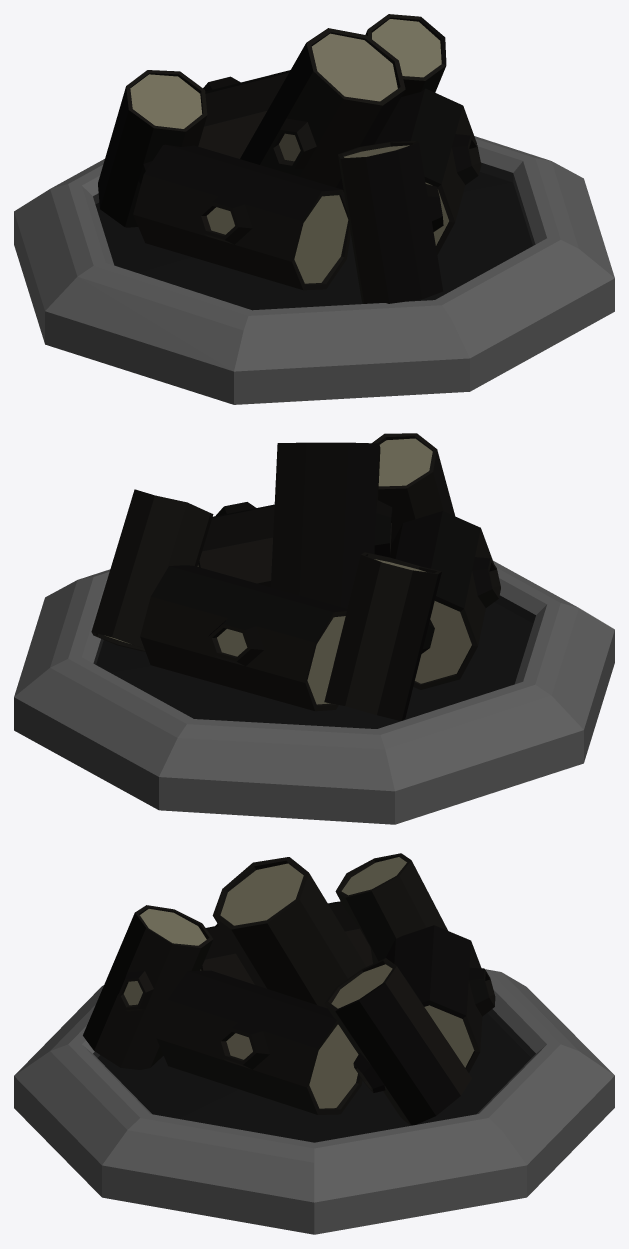
Rendered from Campfire.fbx.
3 views of the same model, one above another, from view 1: azimuth 30°, elevation 25°; view 2: azimuth 150°, elevation 25°; view 3: azimuth 270°, elevation 25° (orthographic). The views are drawn at different scales.
Visible parts, largest first — view 1: CampfireBase, Firewood002, Firewood003, Firewood006, Firewood005, Firewood001, Firewood, Firewood004; view 2: CampfireBase, Firewood, Firewood003, Firewood005, Firewood002, Firewood004, Firewood006, Firewood001; view 3: CampfireBase, Firewood001, Firewood003, Firewood004, Firewood006, Firewood, Firewood005, Firewood002.
Part boxes in pixels (left/top/right/bottom): CampfireBase: left=14, top=136, right=614, bottom=404; Firewood002: left=133, top=144, right=350, bottom=290; Firewood003: left=240, top=28, right=405, bottom=191; Firewood006: left=338, top=141, right=443, bottom=303; Firewood005: left=98, top=70, right=207, bottom=227; Firewood001: left=374, top=88, right=481, bottom=254; Firewood: left=198, top=70, right=290, bottom=158; Firewood004: left=365, top=14, right=446, bottom=96; CampfireBase: left=14, top=560, right=614, bottom=824; Firewood: left=140, top=565, right=347, bottom=711; Firewood003: left=271, top=442, right=392, bottom=608; Firewood005: left=324, top=552, right=441, bottom=720; Firewood002: left=390, top=511, right=500, bottom=689; Firewood004: left=91, top=489, right=213, bottom=651; Firewood006: left=372, top=433, right=454, bottom=544; Firewood001: left=197, top=502, right=274, bottom=587; CampfireBase: left=14, top=969, right=614, bottom=1234; Firewood001: left=156, top=970, right=362, bottom=1114; Firewood003: left=212, top=857, right=366, bottom=1008; Firewood004: left=324, top=958, right=471, bottom=1125; Firewood006: left=83, top=905, right=213, bottom=1069; Firewood: left=386, top=925, right=495, bottom=1072; Firewood005: left=335, top=853, right=447, bottom=963; Firewood002: left=200, top=901, right=372, bottom=984.
Size of the model in its own units: 127 by 56.62 by 127.
